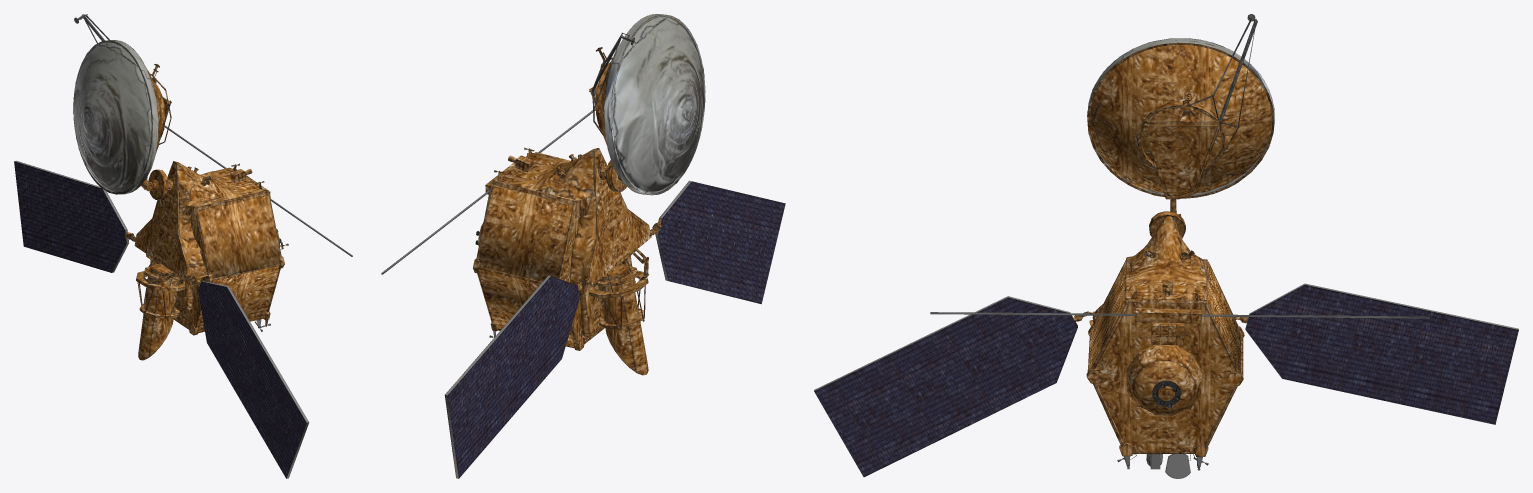
The model's file is Mars Reconnaissance Orbiter (MRO) (A).glb.
3 views of the same model, side by side, from view 1: azimuth 30°, elevation 25°; view 2: azimuth 150°, elevation 25°; view 3: azimuth 270°, elevation 25° (orthographic). The views are drawn at different scales.
Visible parts, largest first — view 1: mro_proxy7, mro_proxy5, mro_proxy3, mro_proxy6, mro_proxy2; view 2: mro_proxy7, mro_proxy5, mro_proxy3, mro_proxy6, mro_proxy2; view 3: mro_proxy7, mro_proxy6, mro_proxy5.
Part boxes in pixels (box(x1,y1,x2,y2)): mro_proxy7: box(14, 14, 352, 478); mro_proxy5: box(134, 161, 213, 335); mro_proxy3: box(129, 173, 193, 360); mro_proxy6: box(230, 163, 284, 328); mro_proxy2: box(137, 259, 181, 320); mro_proxy7: box(381, 14, 785, 478); mro_proxy5: box(477, 148, 660, 350); mro_proxy3: box(581, 160, 658, 375); mro_proxy6: box(473, 147, 534, 337); mro_proxy2: box(601, 249, 648, 330); mro_proxy7: box(814, 14, 1518, 476); mro_proxy6: box(1086, 281, 1243, 470); mro_proxy5: box(1082, 217, 1244, 478).
Size of the model in its own units: 32.79 by 61.01 by 89.74.
11 materials, 11 textured.
